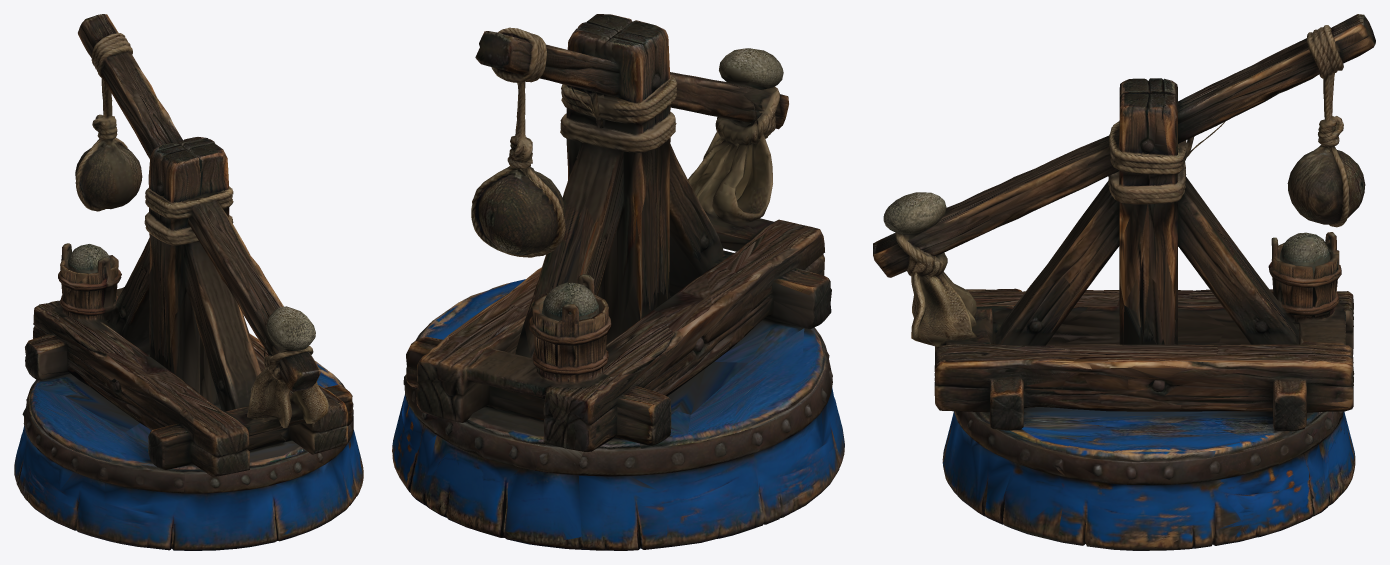
The model's file is piece_trebuchet.glb.
The picture shows the model from 3 angles, left to right: view 1: azimuth 30°, elevation 25°; view 2: azimuth 150°, elevation 25°; view 3: azimuth 270°, elevation 25°; orthographic projection. The views are drawn at different scales.
Visible parts, largest first — view 1: piece_trebuchet; view 2: piece_trebuchet; view 3: piece_trebuchet.
Boxes of the visible parts, x1,y1,x2,y2 form: piece_trebuchet: [14, 14, 363, 550]; piece_trebuchet: [392, 14, 844, 550]; piece_trebuchet: [873, 14, 1375, 550].
Size of the model in its own units: 0.9637 by 1.21 by 1.22.
Materials: 1 (1 with a texture image).
